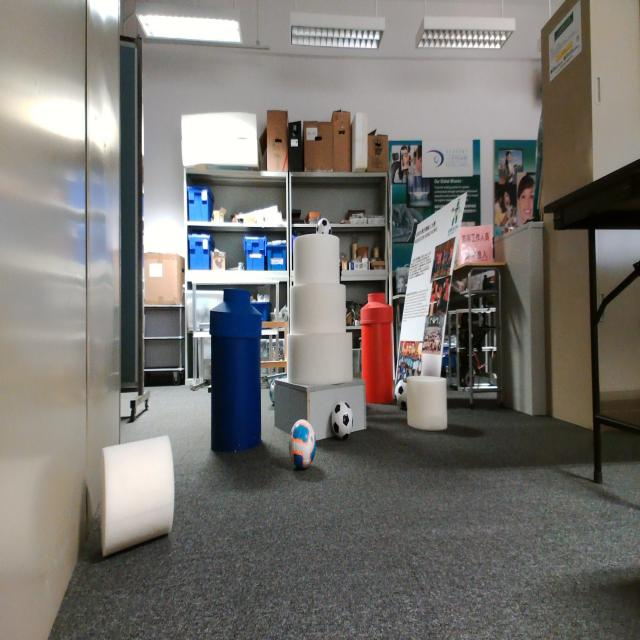ball: (291, 420, 315, 468), (332, 401, 353, 438), (395, 379, 406, 409), (316, 216, 330, 234), (270, 379, 275, 406)
